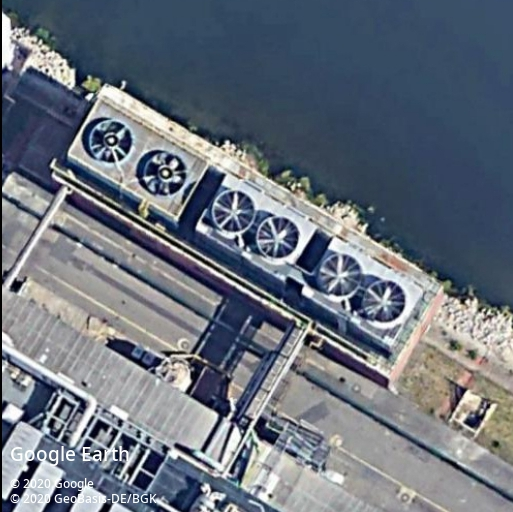Vent: (143, 151, 188, 197), (256, 215, 302, 260), (318, 253, 363, 299), (361, 279, 407, 324), (89, 119, 134, 164), (211, 189, 256, 233)
